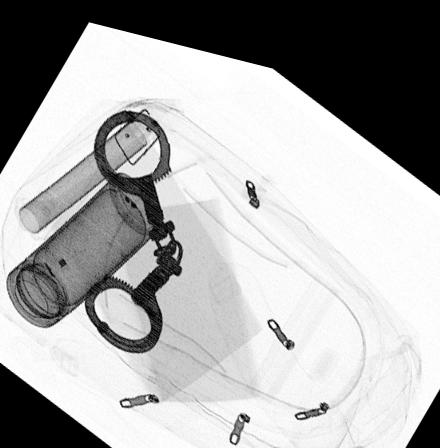HandCuffs: (81, 102, 183, 345)
